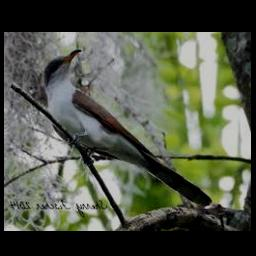Cuckoo: (44, 49, 213, 206)
